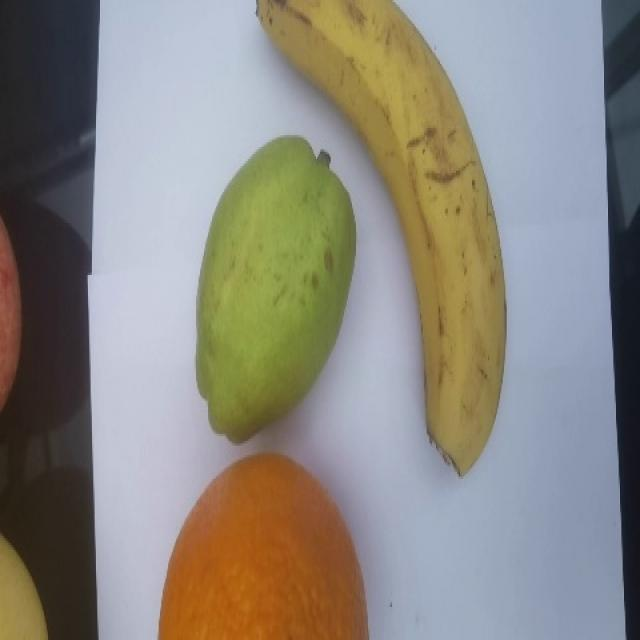Banana: (253, 0, 507, 477)
Orange: (157, 452, 369, 639)
